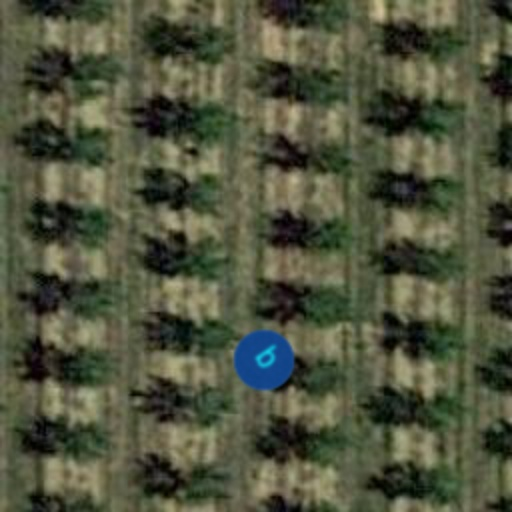circle: (220, 316, 308, 404)
